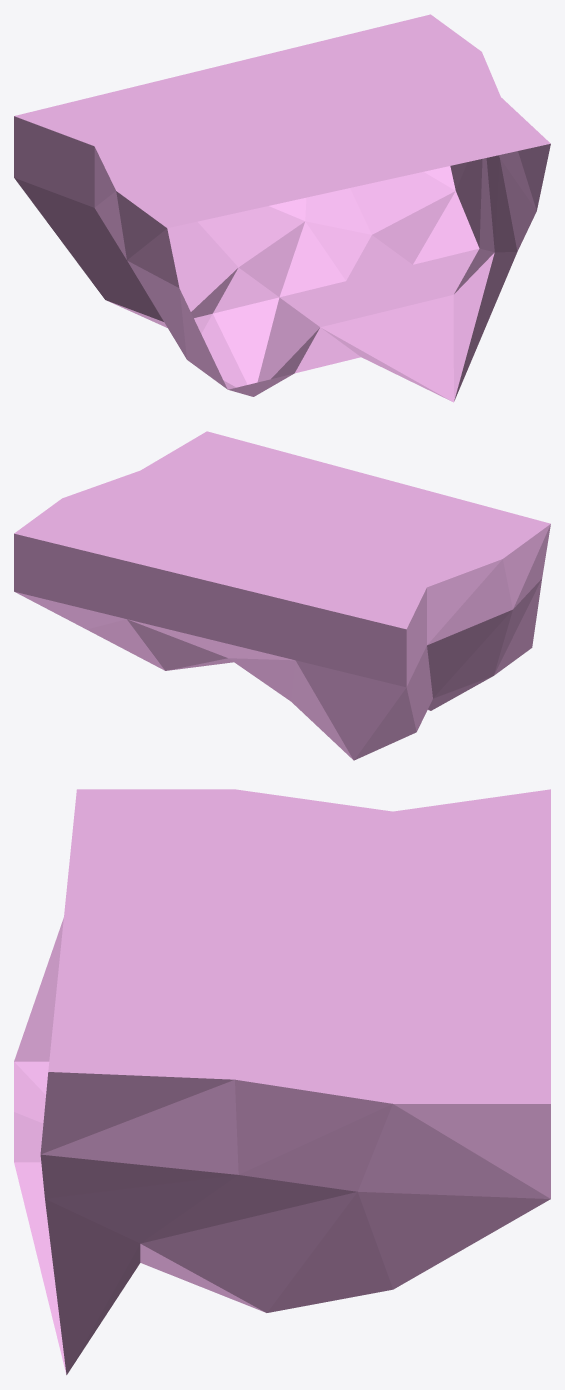
3 views of the same model, one above another, from view 1: azimuth 30°, elevation 25°; view 2: azimuth 150°, elevation 25°; view 3: azimuth 270°, elevation 25° (orthographic). The views are drawn at different scales.
Parts seen in each view (by area): view 1: Object42; view 2: Object42; view 3: Object42.
Part boxes in pixels (left/top/right/bottom): Object42: left=14, top=14, right=550, bottom=402; Object42: left=14, top=431, right=550, bottom=760; Object42: left=14, top=789, right=550, bottom=1375.
Bounding box in the file's own units: 473 × 261 × 341.
